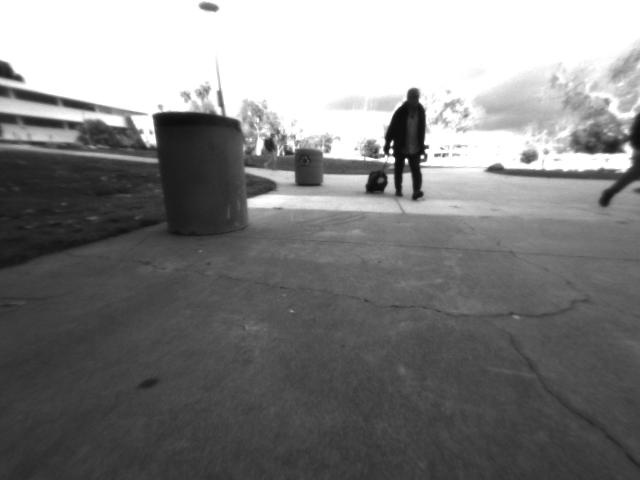trashcan: (148, 106, 257, 240), (291, 145, 330, 195)
